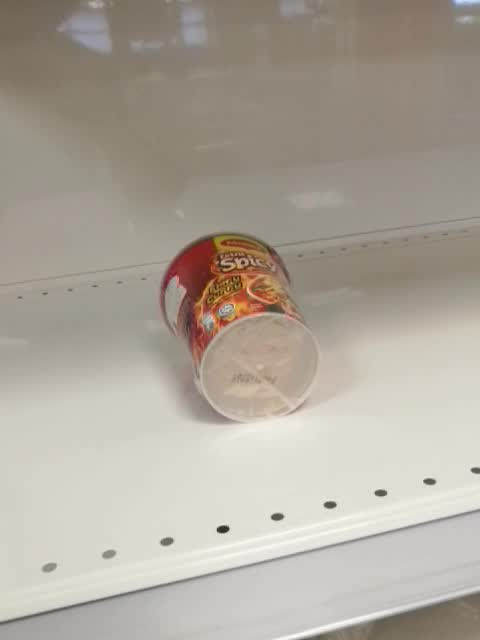maggi: (157, 231, 322, 424)
